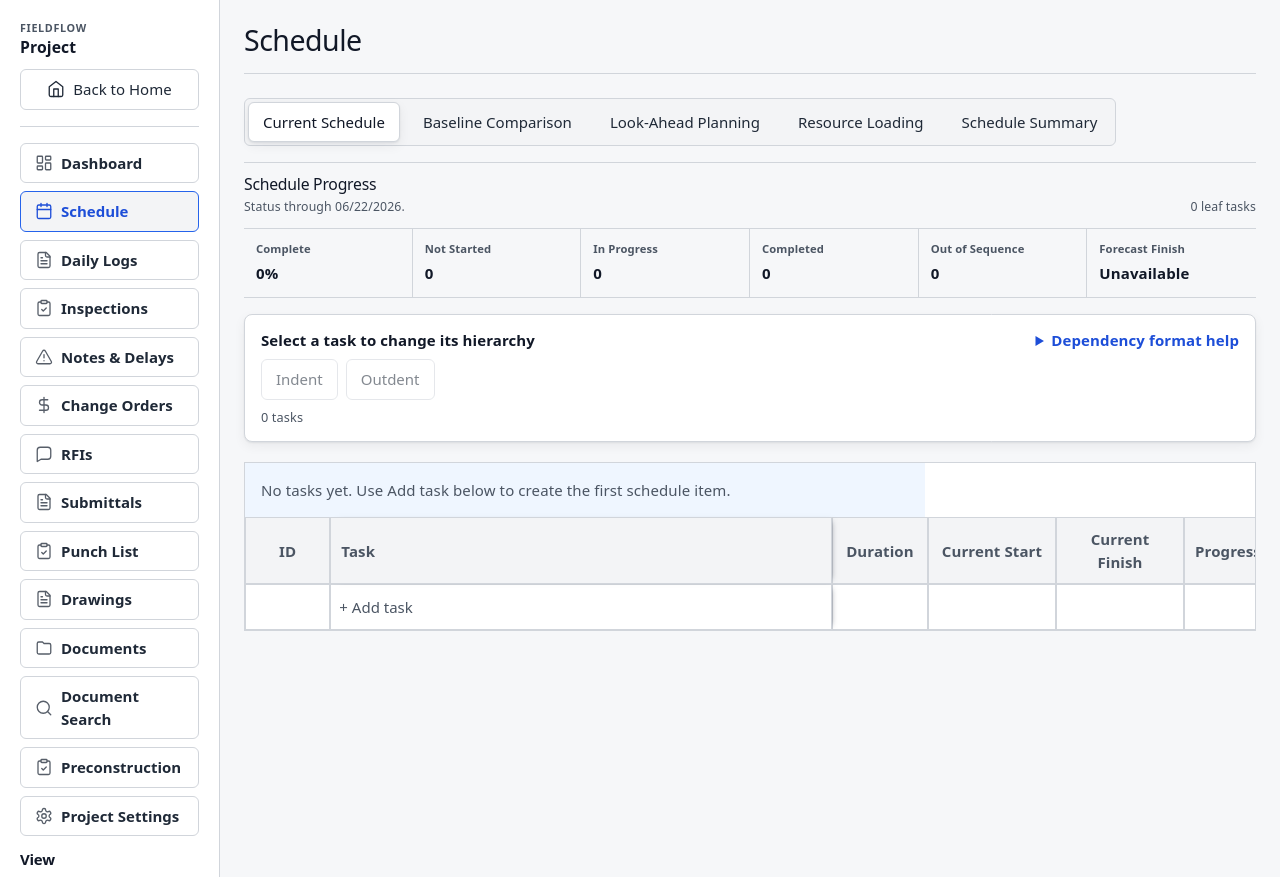
it: SchedulerPage › opens look-ahead planning inside the existing scheduler route
Step 1. Click the button "Look-Ahead Planning" → (685, 122), box [595, 102, 775, 142]
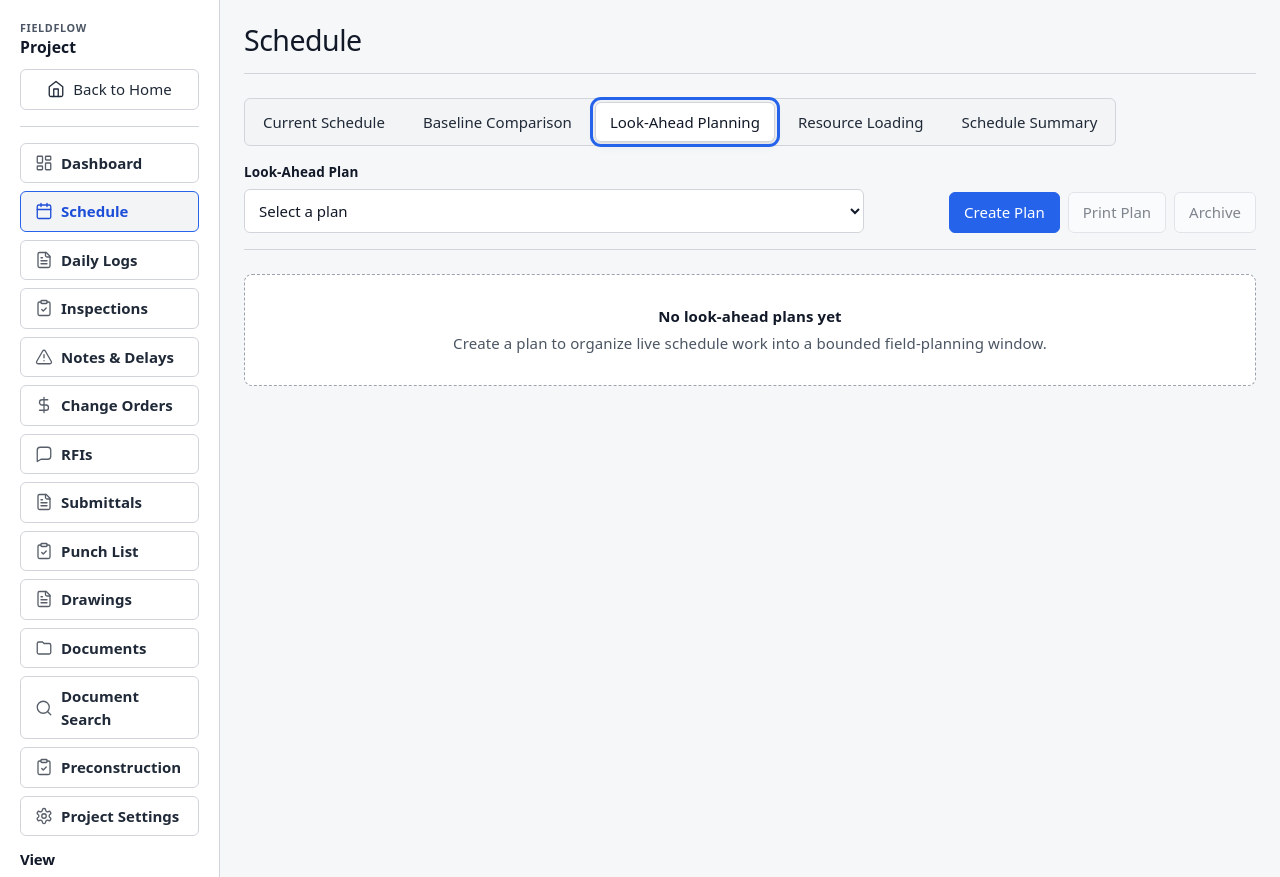
Expected: the element named "Look-Ahead Planning" is shown, [244, 162, 1256, 386]
Expected: the text "No look-ahead plans yet" is shown, [658, 306, 842, 326]
